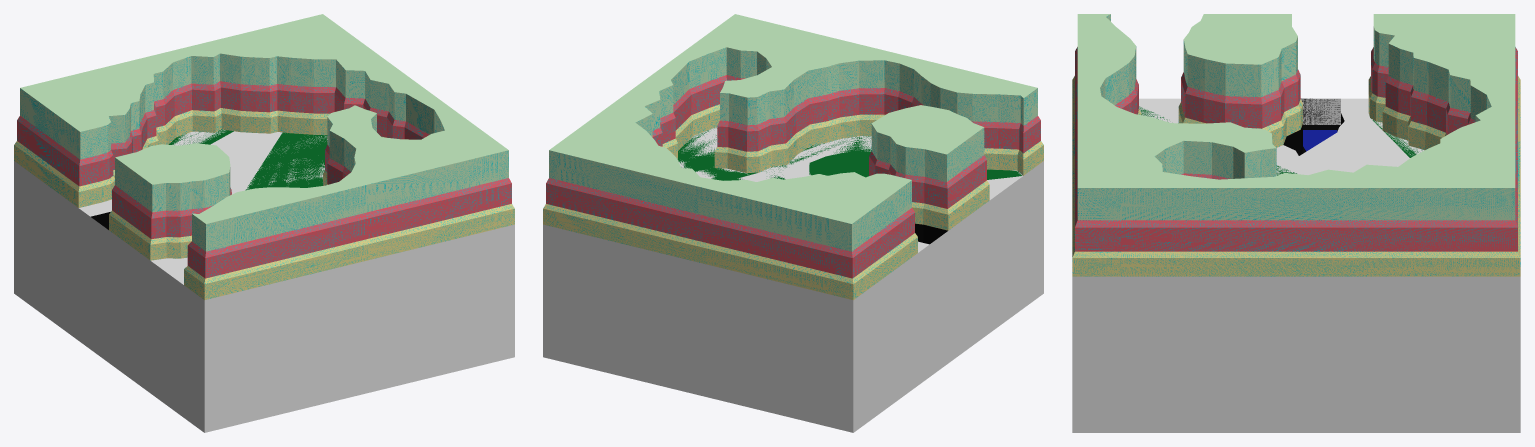
The model's file is Level2.fbx.
The picture shows the model from 3 angles, left to right: view 1: azimuth 30°, elevation 25°; view 2: azimuth 150°, elevation 25°; view 3: azimuth 270°, elevation 25°; orthographic projection. The views are drawn at different scales.
Parts seen in each view (by area): view 1: Cube.001; view 2: Cube.001; view 3: Cube.001.
Boxes of the visible parts, left/top/right/bottom form: Cube.001: left=14, top=14, right=514, bottom=432; Cube.001: left=543, top=14, right=1043, bottom=432; Cube.001: left=1072, top=14, right=1520, bottom=432.
Bounding box in the file's own units: 5693 × 3618 × 6050.
